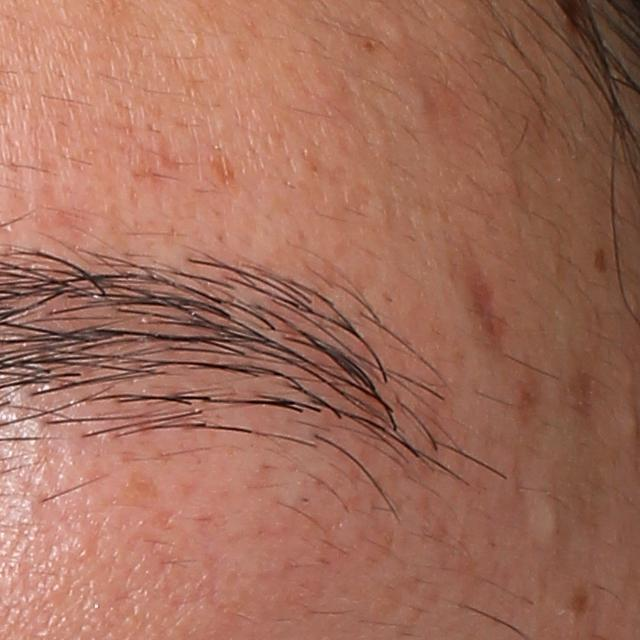atrophic_scar: (455, 242, 513, 351)
comedo: (526, 481, 577, 556), (405, 85, 438, 114)
